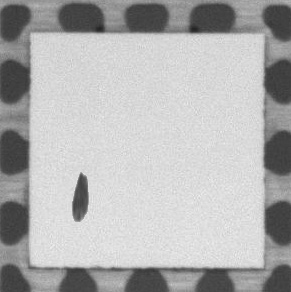DIE_INK: (71, 170, 88, 221)
